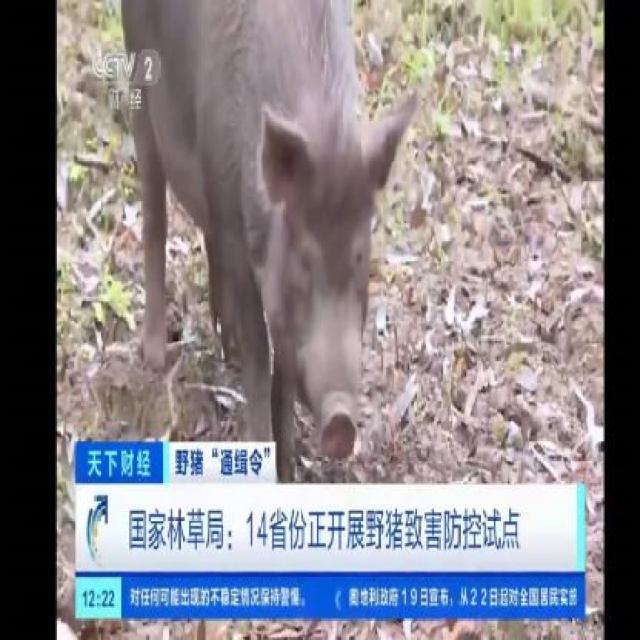wildboar: (112, 0, 428, 522)
